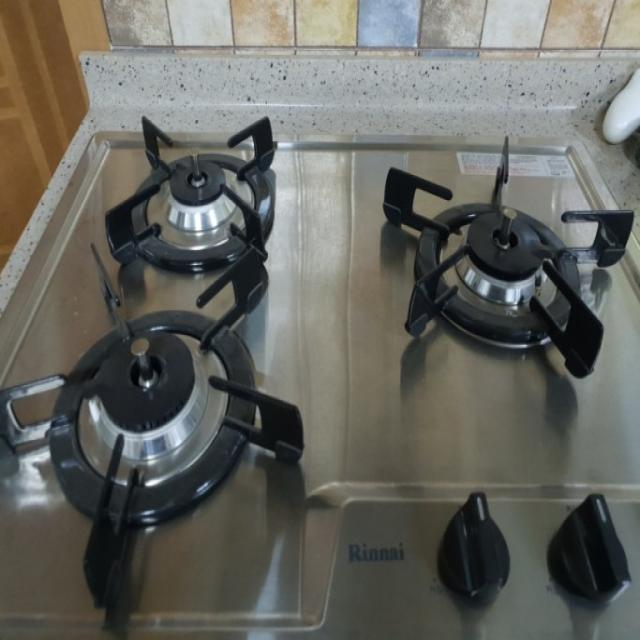knob_ON: (69, 126, 619, 566)
